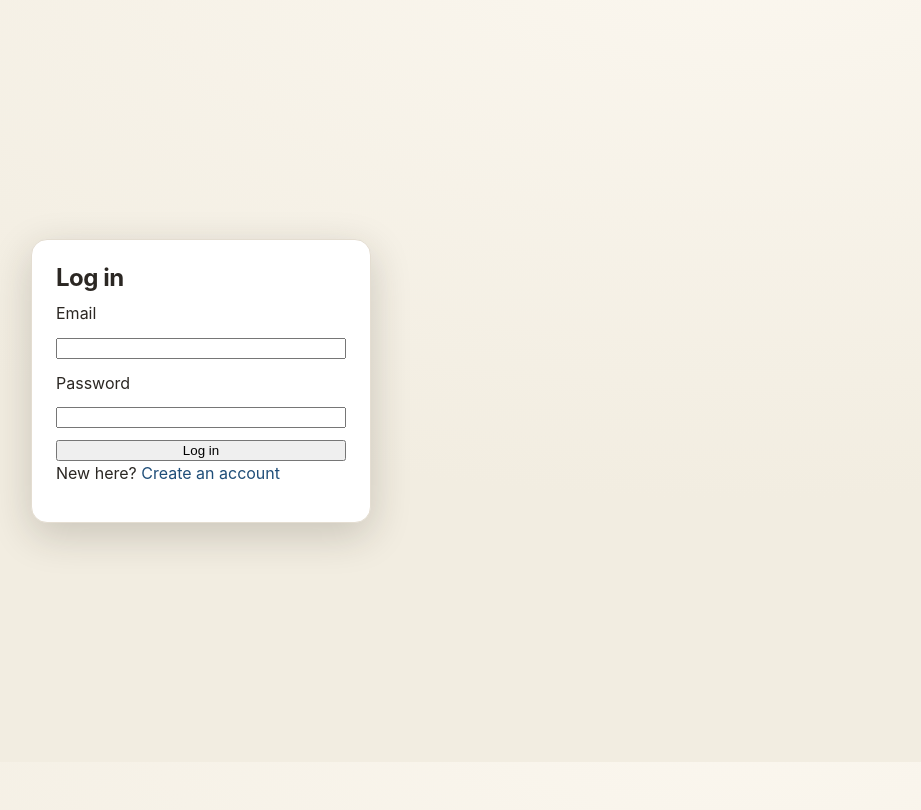
it: App routing (WEB-004/005/006/008) › surfaces server errors as an alert
In the field labelled "Email": [201, 348] box top-left (56, 338), bottom-right (346, 358), type "a@b.co"
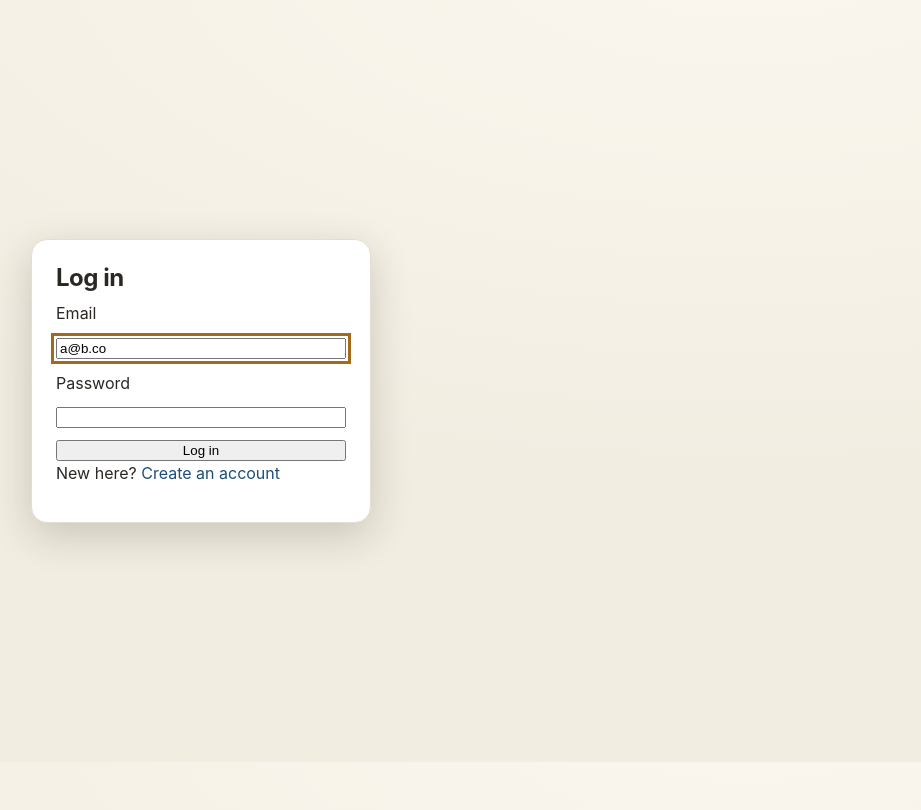
In the password field labelled "Password": [201, 418] box top-left (56, 407), bottom-right (346, 428), type "supersecret1"
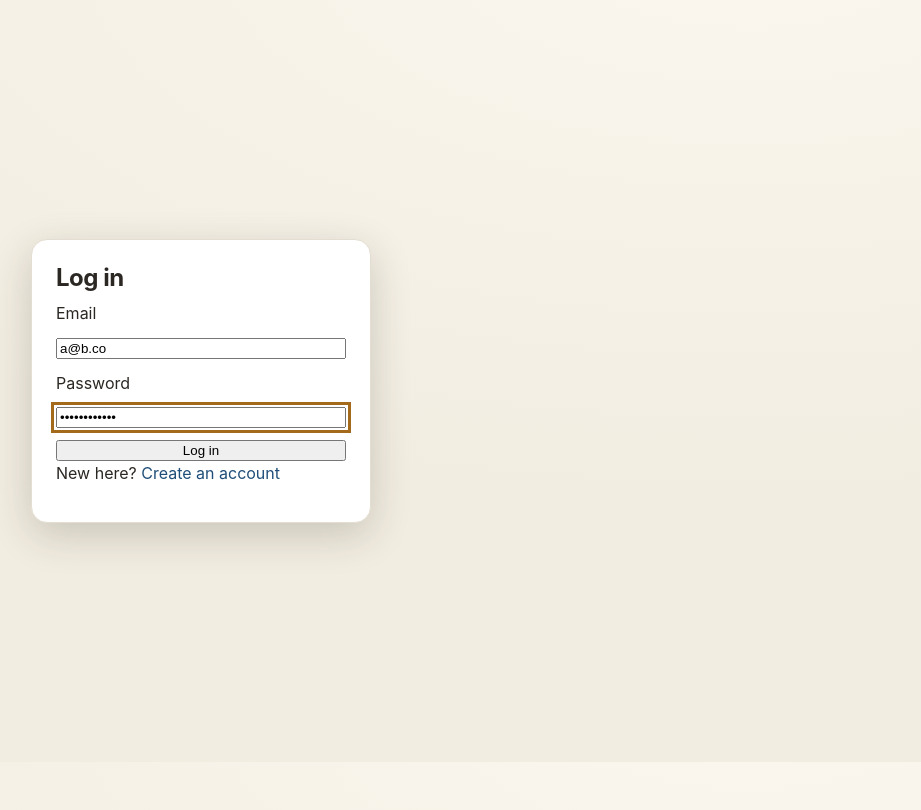
Click the button "Log in": [201, 451] box top-left (56, 440), bottom-right (346, 461)
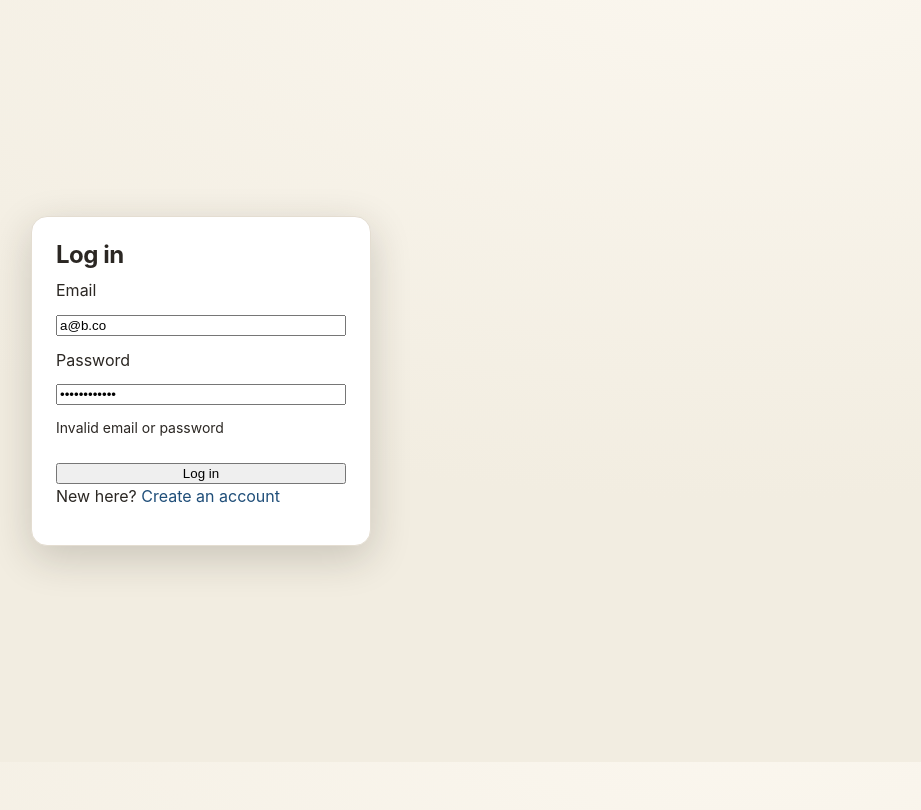
Check: the message reads "Invalid email or password", box top-left (56, 420), bottom-right (224, 436)
